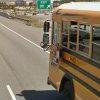Bus: (35, 4, 100, 100)
